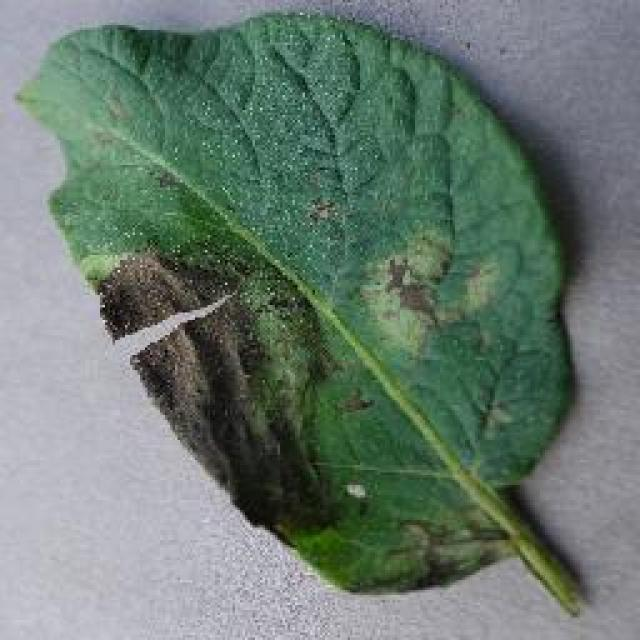late_blight: (13, 5, 585, 607)
